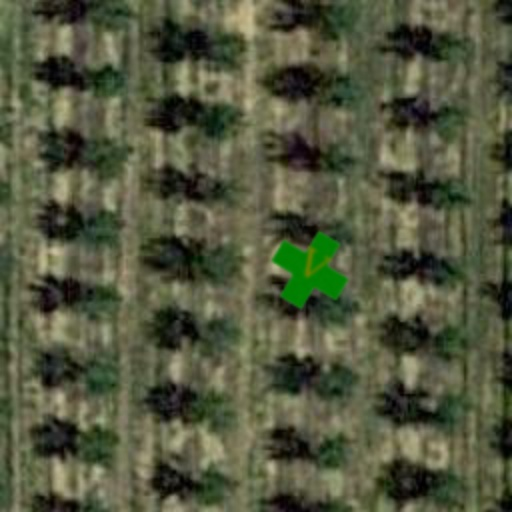cross: (256, 216, 364, 324)
